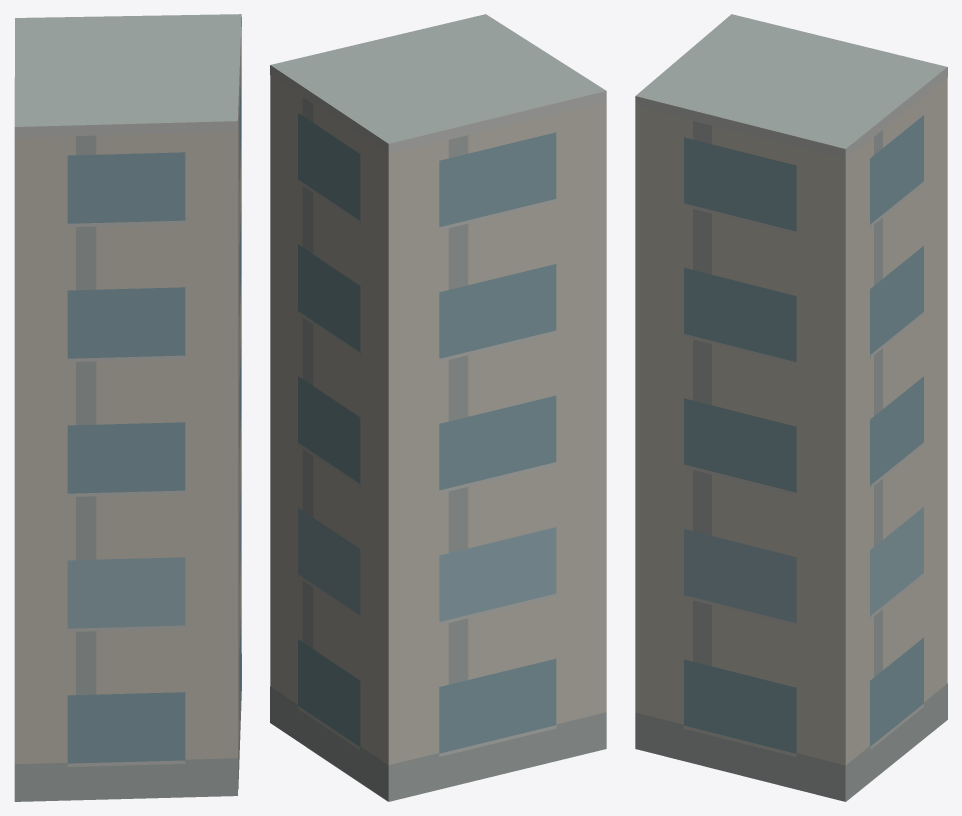
The model's file is survey-upis-32597510.glb.
The picture shows the model from 3 angles, left to right: view 1: azimuth 30°, elevation 25°; view 2: azimuth 150°, elevation 25°; view 3: azimuth 270°, elevation 25°; orthographic projection. The views are drawn at different scales.
Visible parts, largest first — view 1: survey-upis-32597510.tmp; view 2: survey-upis-32597510.tmp; view 3: survey-upis-32597510.tmp.
Boxes of the visible parts, x1,y1,x2,y2 form: survey-upis-32597510.tmp: [14, 14, 241, 801]; survey-upis-32597510.tmp: [270, 14, 606, 801]; survey-upis-32597510.tmp: [635, 14, 947, 801].
Size of the model in its own units: 6.77 by 15.25 by 6.62.
